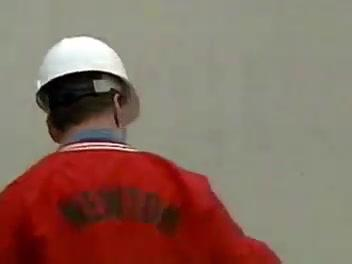helmet: (31, 31, 144, 103)
no -hi-vis jacket: (21, 135, 228, 264)
